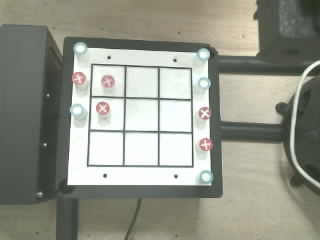blue circle: (197, 48, 211, 61), (70, 104, 84, 117), (200, 170, 213, 183), (73, 42, 87, 54), (198, 77, 211, 88)
board: (67, 46, 212, 185)
cells: (89, 132, 122, 165), (125, 133, 157, 165), (90, 98, 123, 129), (160, 134, 192, 165), (125, 99, 157, 130), (160, 100, 191, 131), (92, 66, 124, 96), (160, 68, 191, 98), (126, 67, 157, 97)
grid: (87, 64, 193, 167)
red cross: (96, 101, 110, 116), (198, 107, 212, 120), (101, 75, 114, 87), (72, 72, 85, 84), (199, 138, 212, 150)
